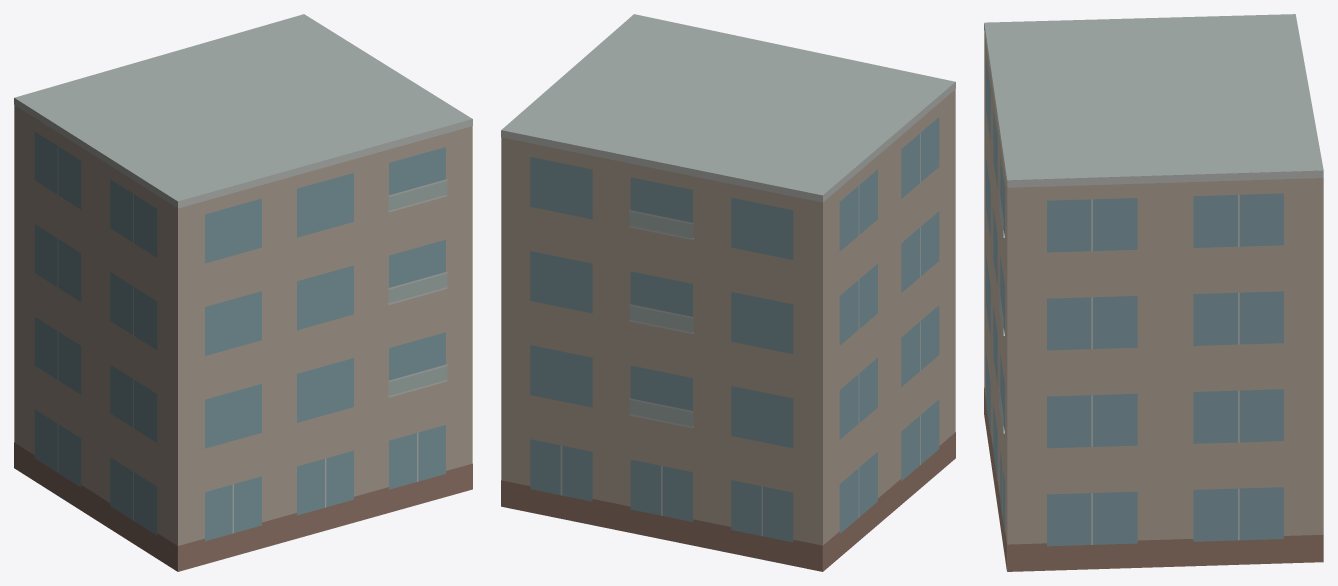
File: survey-upis-32914701.glb
3 renders of one model, left to right at view 1: azimuth 30°, elevation 25°; view 2: azimuth 150°, elevation 25°; view 3: azimuth 270°, elevation 25°, orthographic. The views are drawn at different scales.
Visible parts, largest first — view 1: survey-upis-32914701.tmp; view 2: survey-upis-32914701.tmp; view 3: survey-upis-32914701.tmp.
Part boxes in pixels (box(x1,y1,x2,y2)): survey-upis-32914701.tmp: box(14, 14, 472, 571); survey-upis-32914701.tmp: box(501, 14, 955, 571); survey-upis-32914701.tmp: box(984, 14, 1323, 571).
Size of the model in its own units: 11.66 by 12.8 by 10.07.
